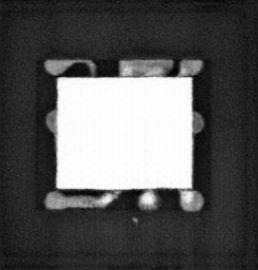DIE_INK: (131, 214, 139, 223)
